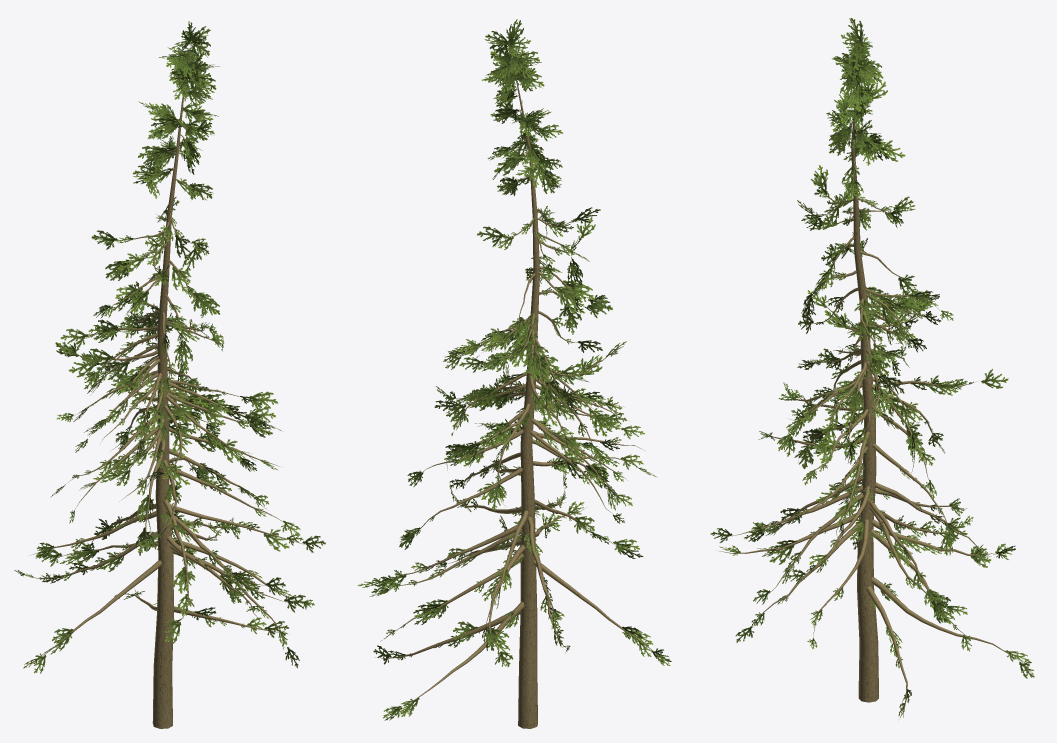
Rendered from YoungPine.glb.
3 renders of one model, left to right at view 1: azimuth 30°, elevation 25°; view 2: azimuth 150°, elevation 25°; view 3: azimuth 270°, elevation 25°, orthographic. The views are drawn at different scales.
Parts seen in each view (by area): view 1: YoungPine canopy, YoungPine trunk; view 2: YoungPine canopy, YoungPine trunk; view 3: YoungPine canopy, YoungPine trunk.
Boxes of the visible parts, left/top/right/bottom form: YoungPine canopy: left=14, top=21, right=325, bottom=673; YoungPine trunk: left=32, top=45, right=305, bottom=728; YoungPine canopy: left=357, top=19, right=671, bottom=720; YoungPine trunk: left=375, top=55, right=658, bottom=728; YoungPine canopy: left=710, top=18, right=1034, bottom=717; YoungPine trunk: left=717, top=45, right=1019, bottom=718.
Size of the model in its own units: 3.39 by 8 by 3.51.
Materials: 2 (2 with a texture image).
